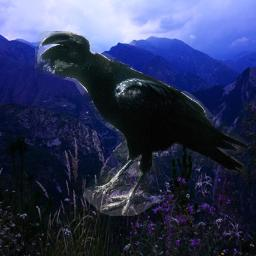Crow: (35, 31, 248, 216)
